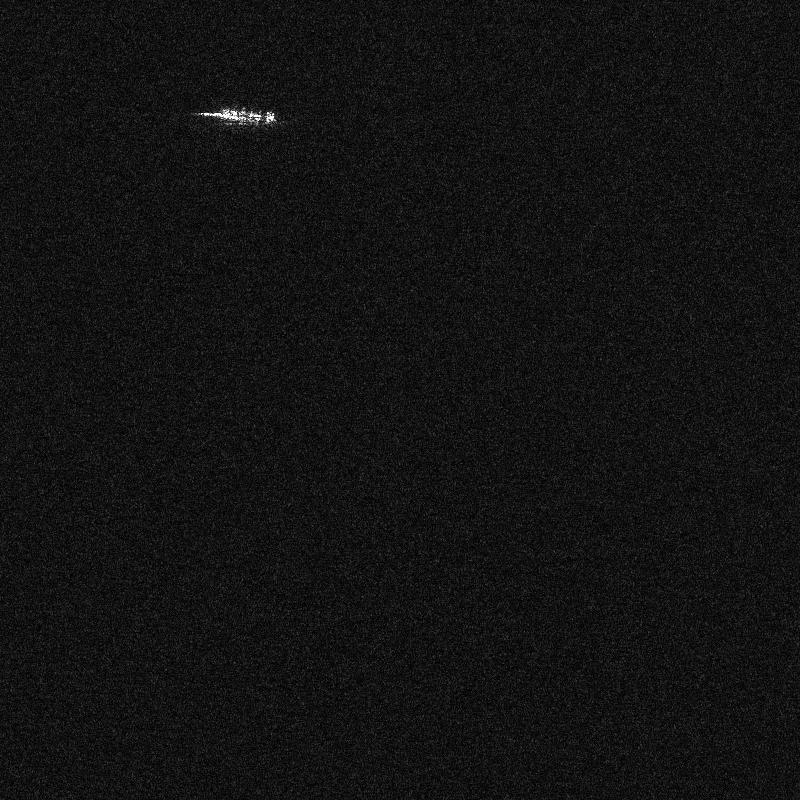ship: (201, 108, 275, 123)
